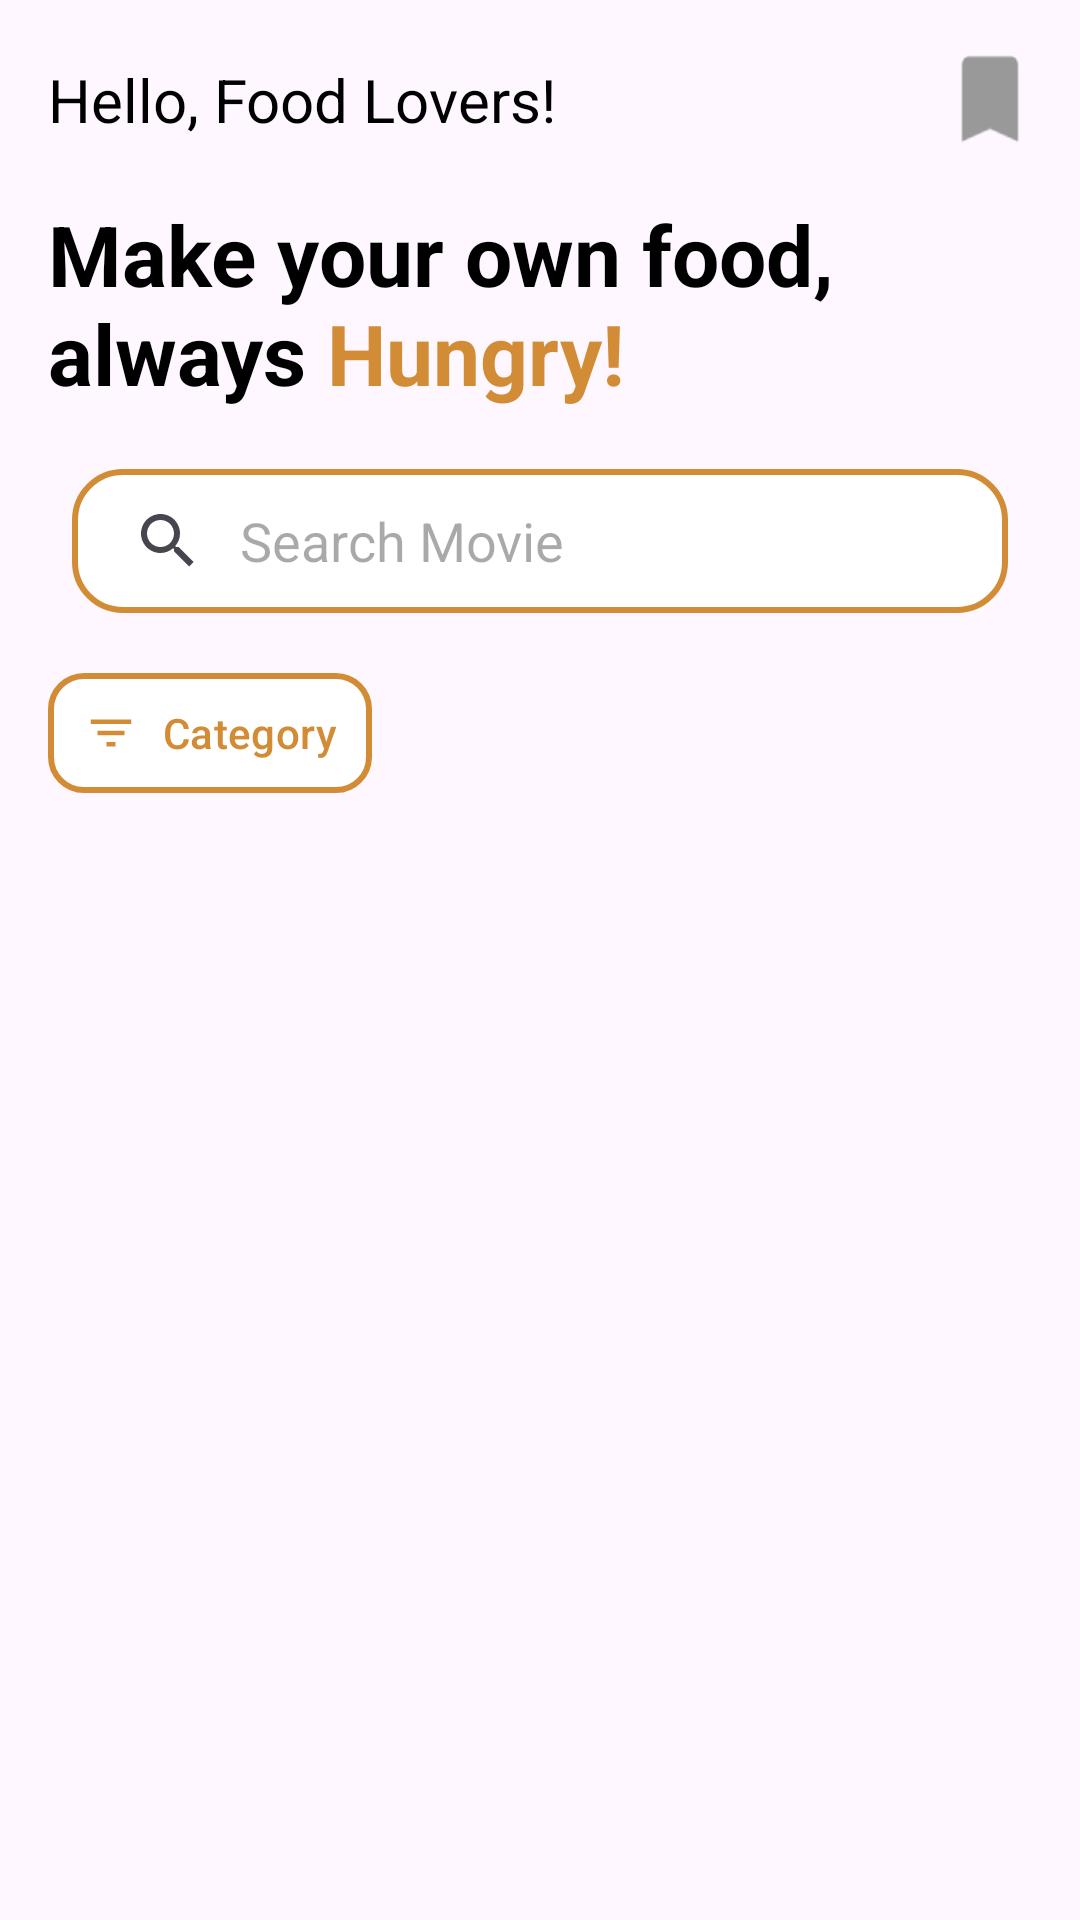

Locate icon controls on the screen. Image size 1080*1920, boxes as Rect(x1, y1, x2, y2).
bookmark: Rect(961, 56, 1019, 142)
